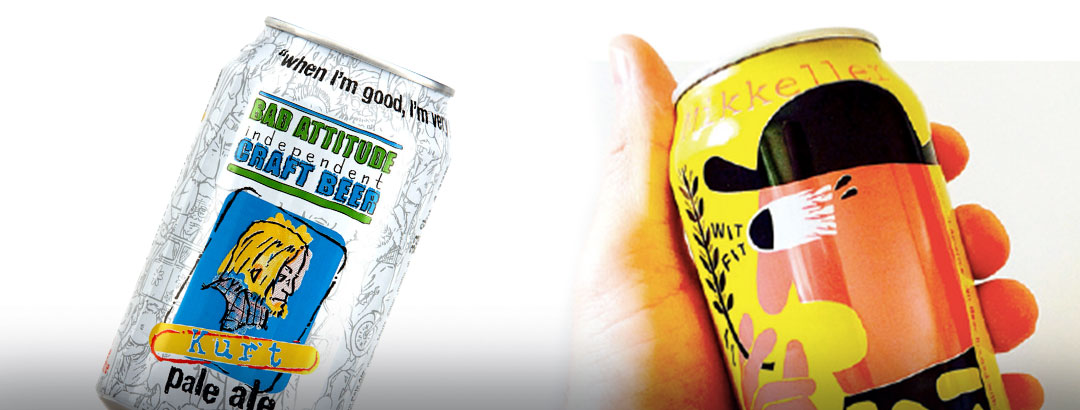can: (92, 11, 459, 410), (660, 22, 1021, 410)
